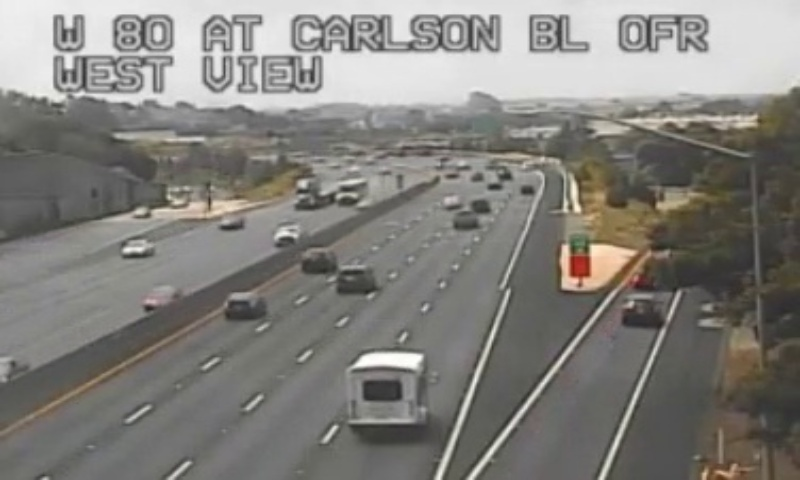bus: (346, 350, 429, 429)
car: (223, 292, 265, 321), (619, 294, 661, 323), (336, 265, 372, 292), (300, 249, 334, 270)
